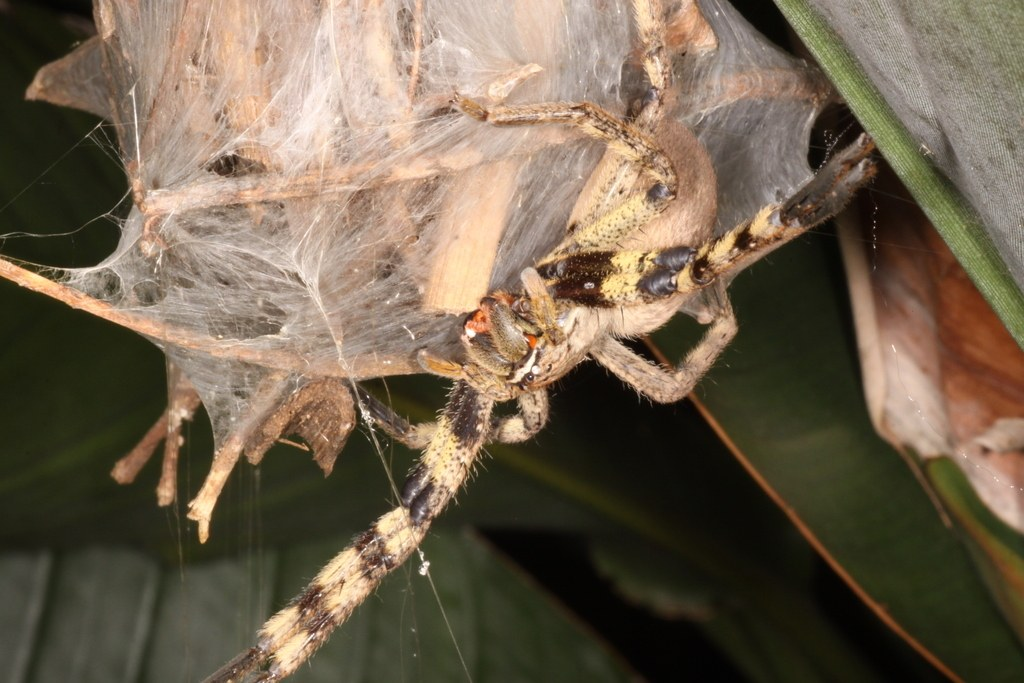insect: (0, 0, 881, 682)
